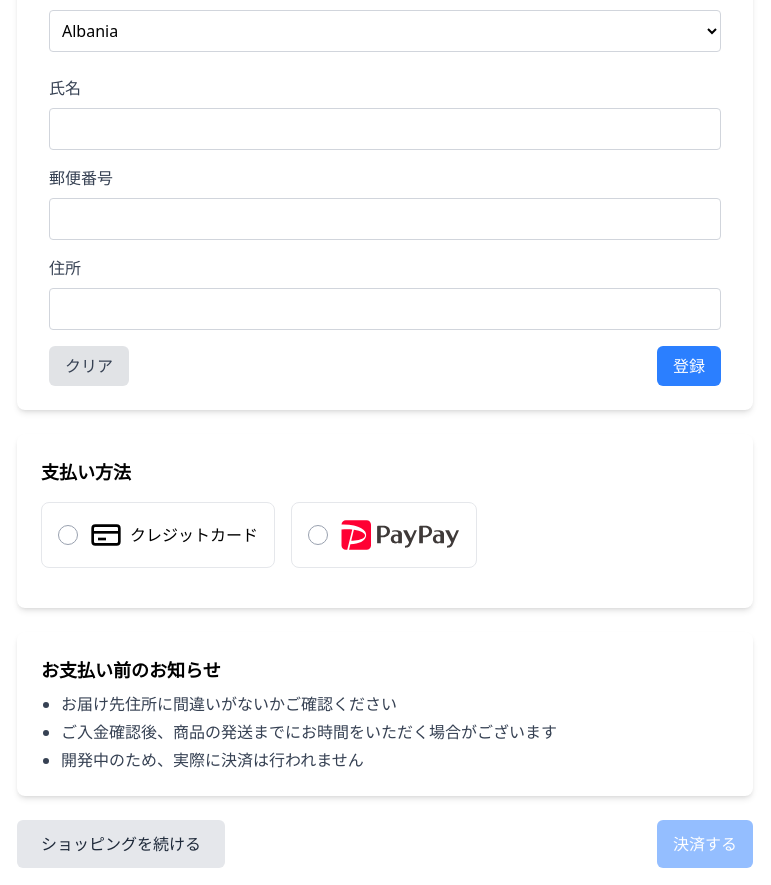
Scenario: CheckoutPageコンポーネント › 支払い方法を選択できること
(page scrolled)
What coordinates should you click on to do the following:
click the button "PayPay logo"
I would click on:
 (384, 535)
Its box is left=291, top=502, right=477, bottom=568.
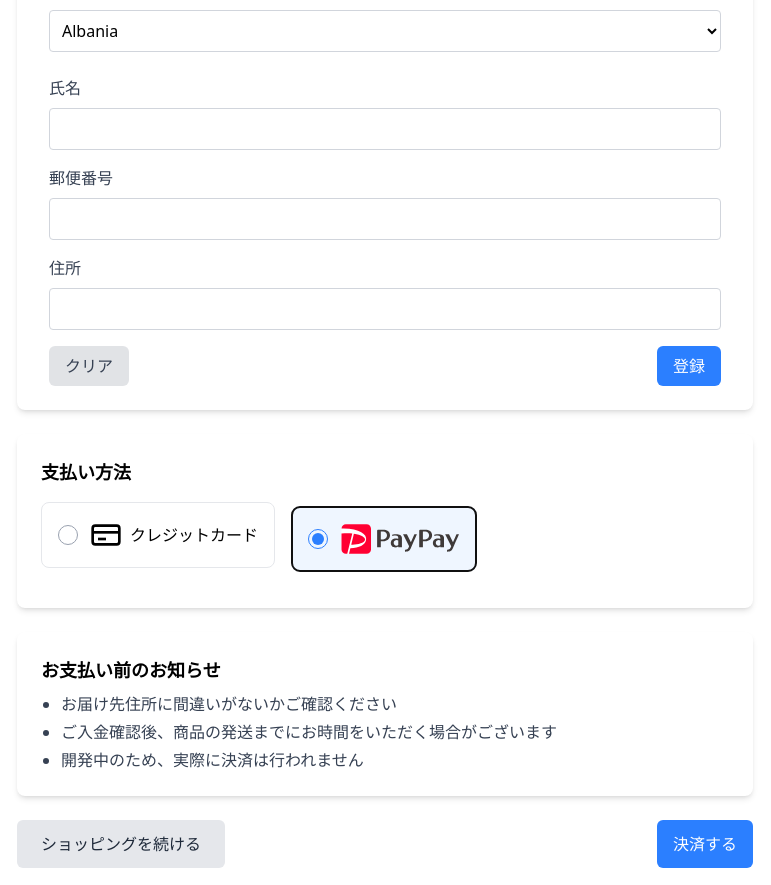
Expected: the button "決済する" is enabled, left=657, top=820, right=753, bottom=868
